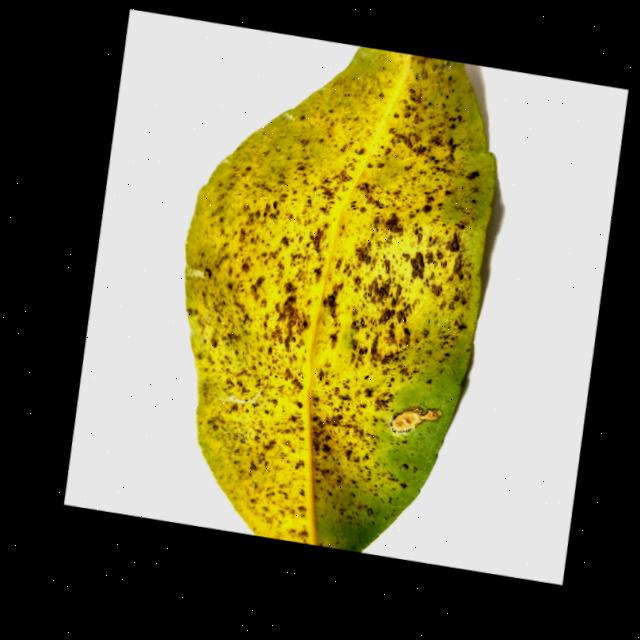melanose: (183, 47, 494, 551)
